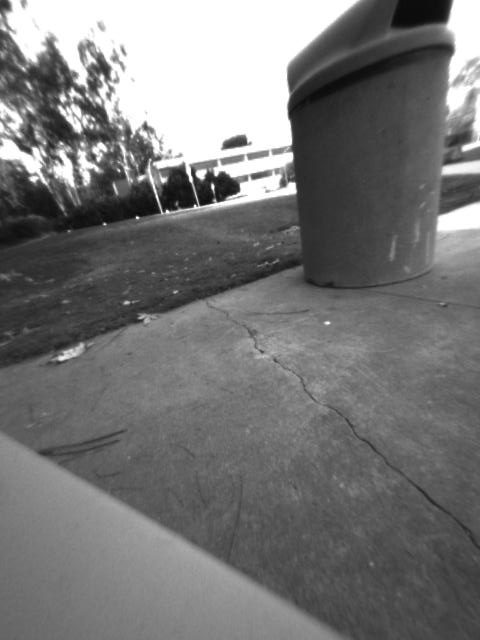trashcan: (283, 1, 460, 286)
